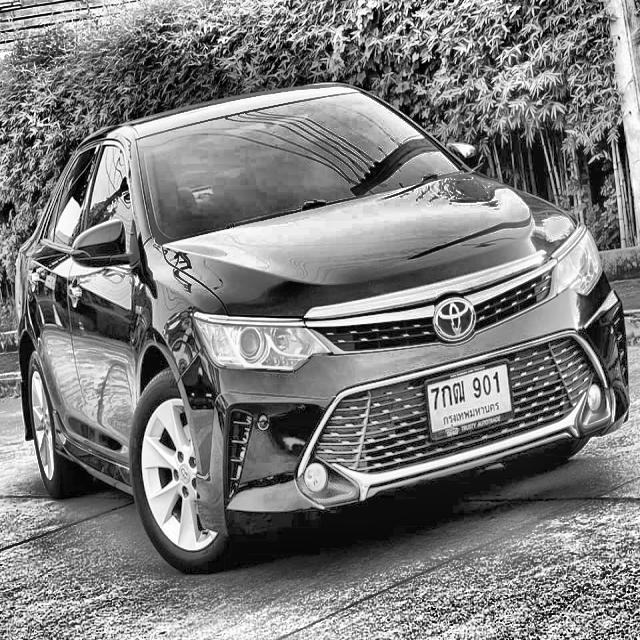license-plate: (416, 357, 518, 437)
